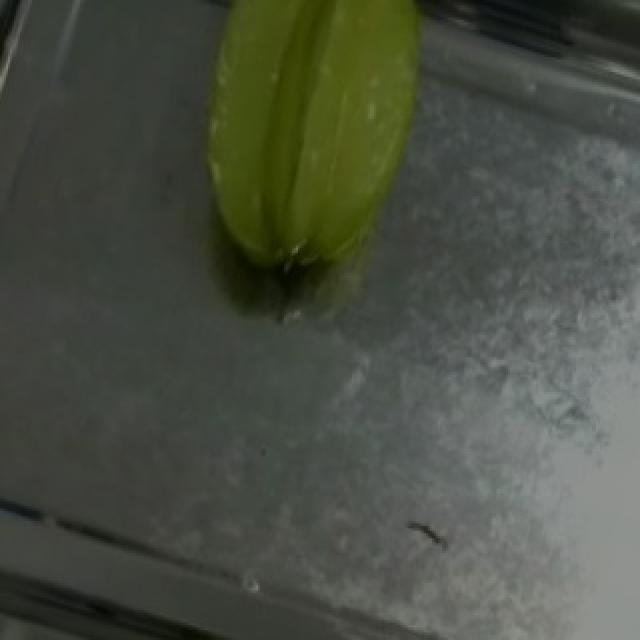fruit: (146, 0, 478, 305)
